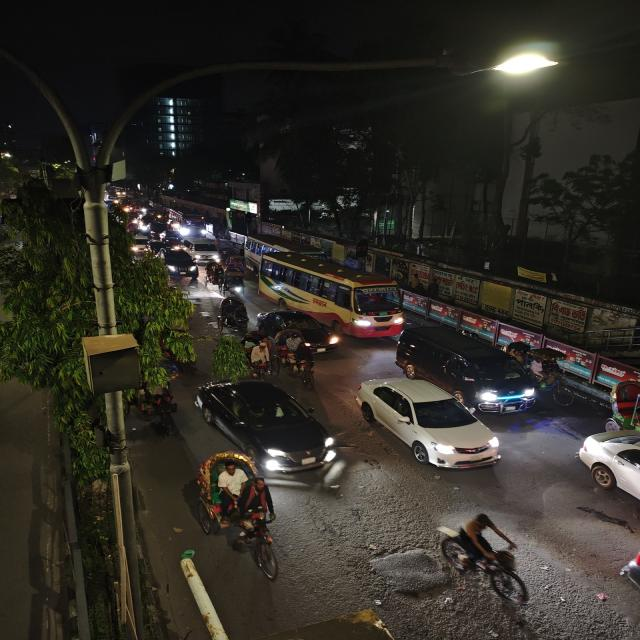bicycle: (426, 512, 536, 617)
bus: (254, 252, 401, 332), (166, 206, 212, 238)
car: (192, 376, 346, 477), (354, 376, 506, 474), (396, 326, 539, 412), (573, 422, 640, 517), (261, 308, 341, 352), (160, 248, 199, 278), (187, 238, 222, 262)
rickshaw: (184, 448, 284, 574), (272, 329, 318, 385), (606, 378, 640, 431), (242, 332, 271, 381), (214, 295, 248, 333), (219, 262, 249, 300)
